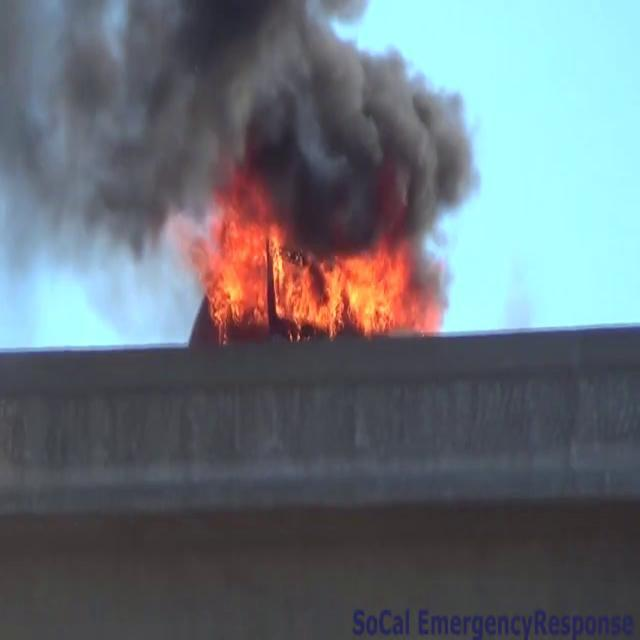Fire: (187, 206, 429, 342)
Smoke: (0, 0, 486, 270)
